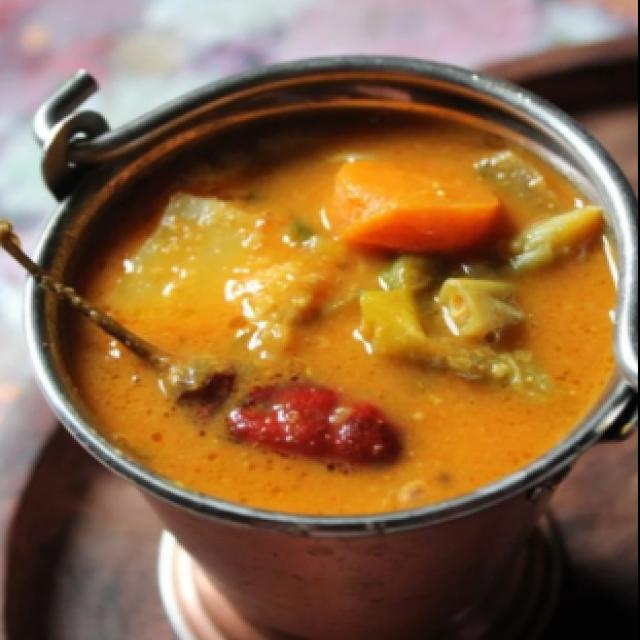sambar: (51, 39, 640, 592)
